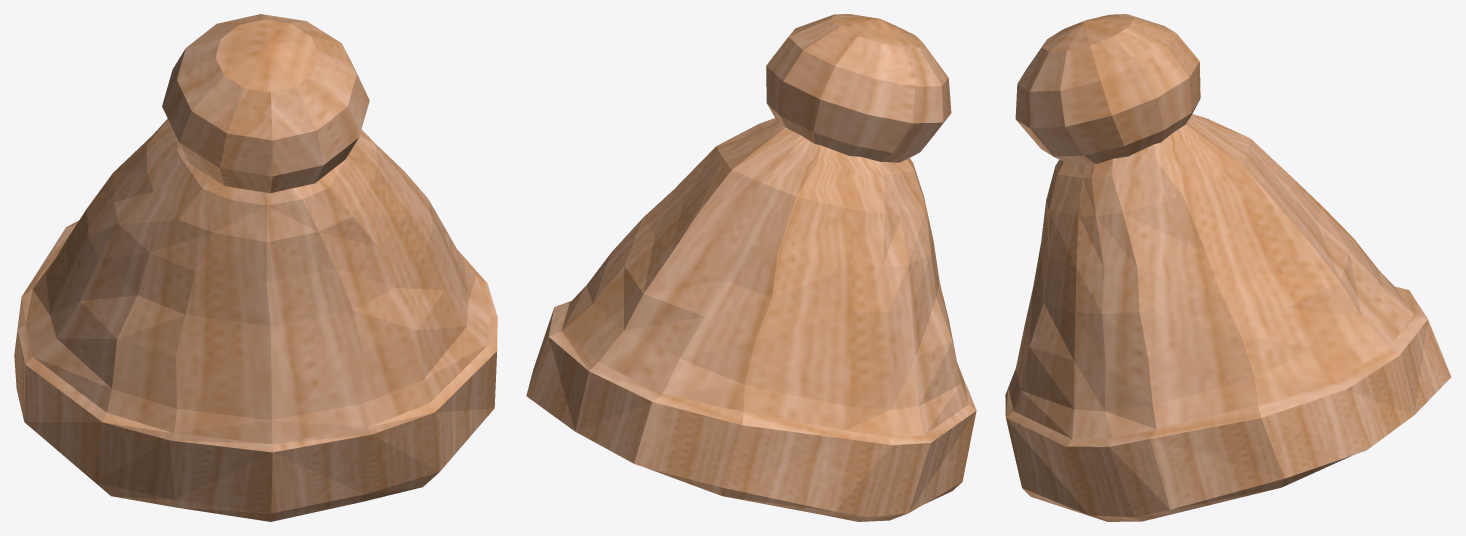
Rendered from ORANGE POMPOM HAT.fbx.
3 views of the same model, side by side, from view 1: azimuth 30°, elevation 25°; view 2: azimuth 150°, elevation 25°; view 3: azimuth 270°, elevation 25° (orthographic). The views are drawn at different scales.
Parts seen in each view (by area): view 1: ORANGE_POMPOM_HAT; view 2: ORANGE_POMPOM_HAT; view 3: ORANGE_POMPOM_HAT.
Part boxes in pixels (x1,y1,x2,y2): ORANGE_POMPOM_HAT: (14, 14, 497, 521); ORANGE_POMPOM_HAT: (526, 14, 976, 521); ORANGE_POMPOM_HAT: (1005, 14, 1451, 521).
Size of the model in its own units: 31.38 by 33.13 by 31.25.
